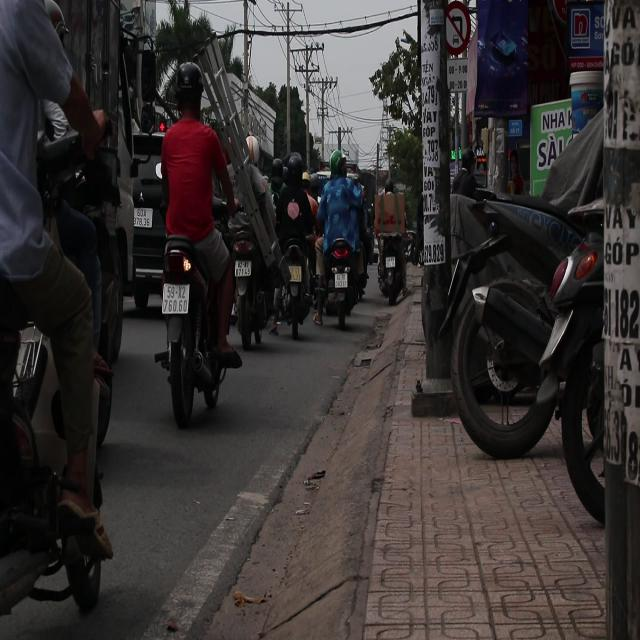motorbike: (156, 234, 237, 426), (225, 200, 277, 348), (271, 224, 314, 362), (319, 222, 365, 334), (374, 192, 412, 306)
